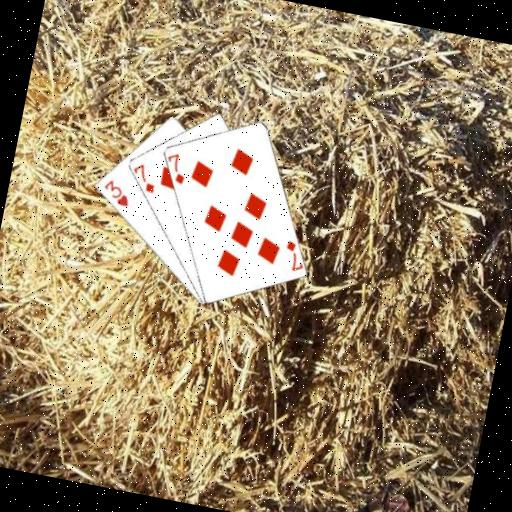3H: (98, 175, 134, 209)
7D: (127, 159, 160, 196), (279, 236, 308, 274), (162, 149, 191, 186)
